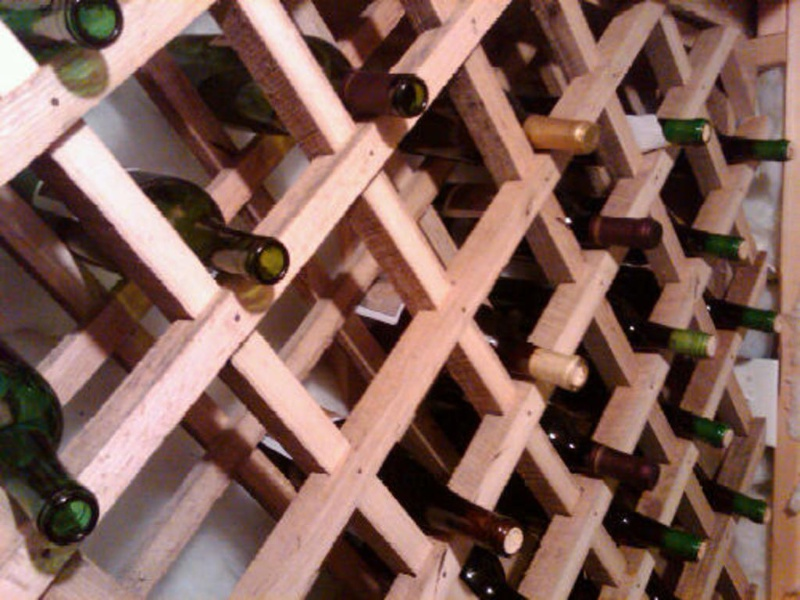wine: (2, 3, 800, 591)
